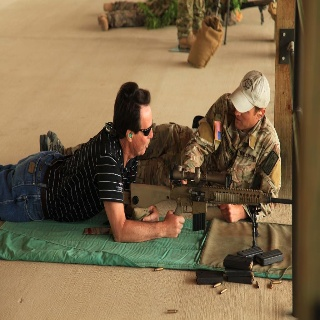rifle: (128, 167, 294, 245)
